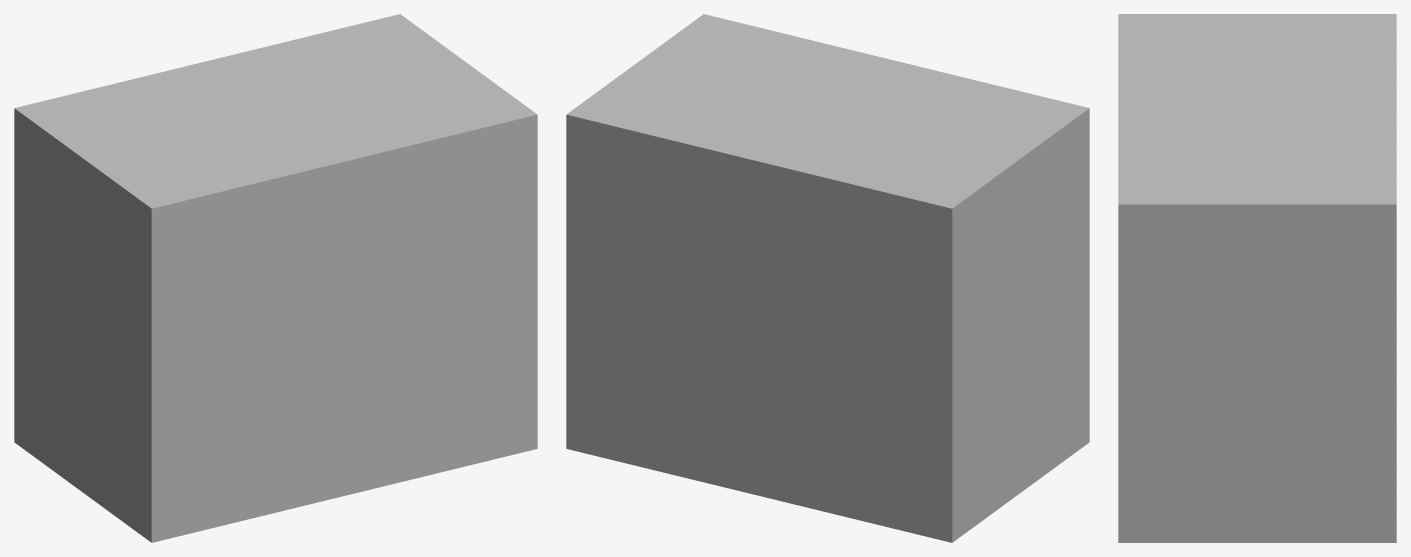
3 views of the same model, side by side, from view 1: azimuth 30°, elevation 25°; view 2: azimuth 150°, elevation 25°; view 3: azimuth 270°, elevation 25° (orthographic).
Visible parts, largest first — view 1: mesh_id27; view 2: mesh_id27; view 3: mesh_id27.
Boxes of the visible parts, x1,y1,x2,y2 form: mesh_id27: (14, 14, 537, 542); mesh_id27: (566, 14, 1089, 542); mesh_id27: (1118, 14, 1396, 542).
Size of the model in its own units: 1.12 by 0.9303 by 0.6934.
Materials: 1 (1 with a texture image).
